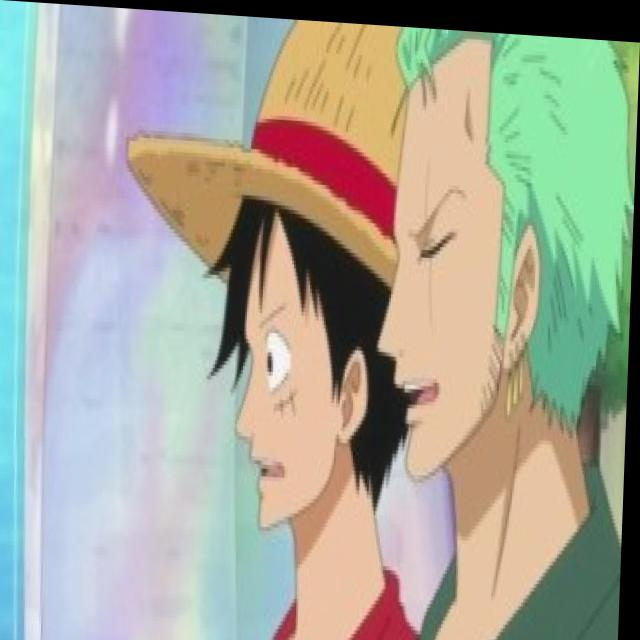Luffy: (117, 11, 415, 574)
Zoro: (367, 20, 640, 486)
